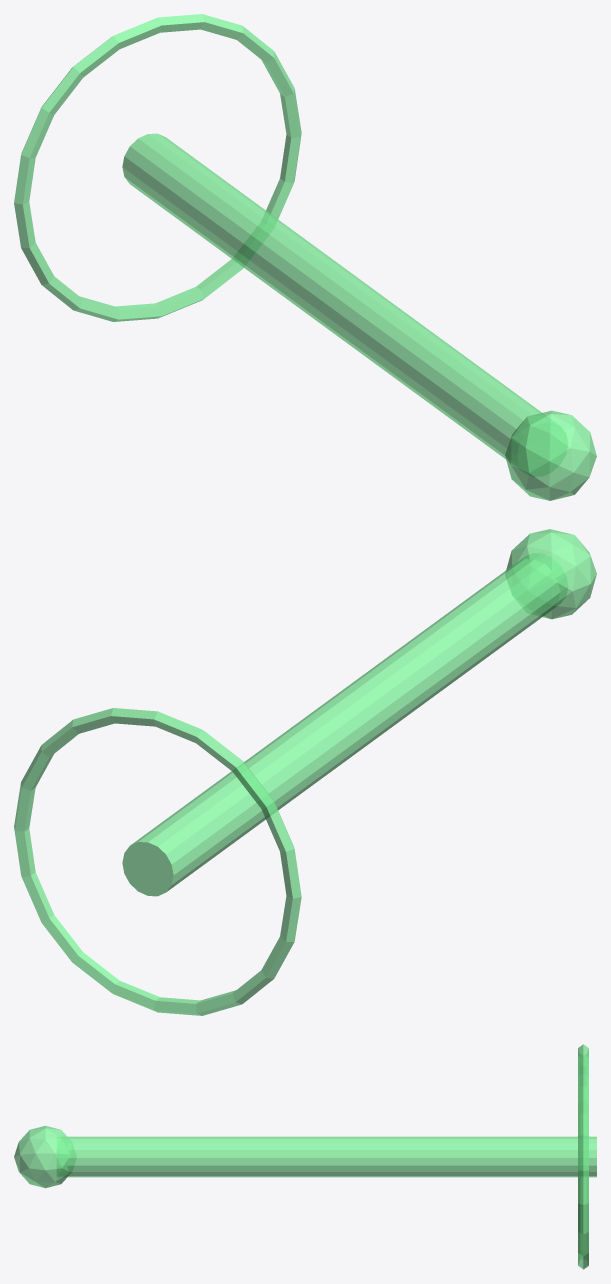
File: loot_beam_uncommon.glb
3 renders of one model, top to bottom at view 1: azimuth 30°, elevation 25°; view 2: azimuth 150°, elevation 25°; view 3: azimuth 270°, elevation 25°, orthographic. The views are drawn at different scales.
Parts seen in each view (by area): view 1: beam, ground_ring, top_spark; view 2: beam, ground_ring, top_spark; view 3: beam, top_spark, ground_ring.
Part boxes in pixels (x1,y1,x2,y2): beam: [122, 133, 567, 476]; ground_ring: [14, 14, 301, 321]; top_spark: [505, 410, 596, 500]; beam: [122, 553, 567, 896]; ground_ring: [14, 708, 301, 1015]; top_spark: [505, 529, 596, 619]; beam: [57, 1136, 596, 1177]; top_spark: [14, 1125, 76, 1188]; ground_ring: [578, 1044, 588, 1269].
Bounding box in the file's own units: 1.01 × 1.01 × 2.59.
